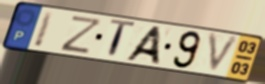9: (171, 29, 205, 70)
A: (122, 25, 165, 67)
I: (31, 10, 57, 49)
T: (107, 18, 138, 61)
V: (206, 31, 243, 76)
Z: (58, 14, 105, 56)
